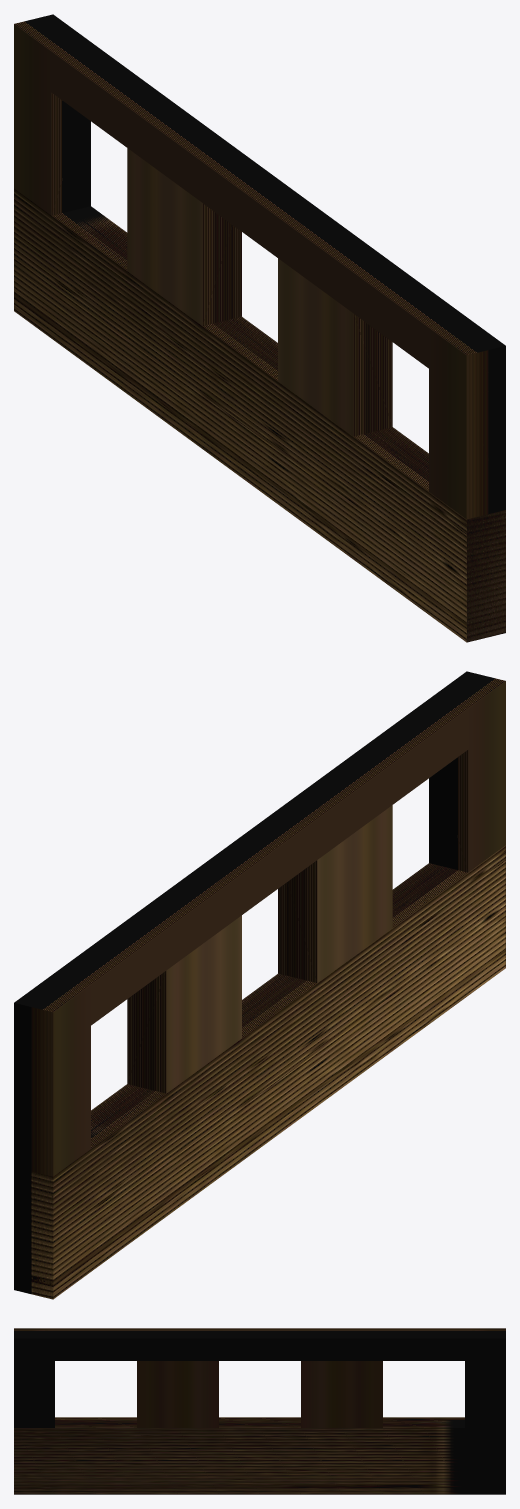
The model's file is windowed_wall.glb.
3 views of the same model, one above another, from view 1: azimuth 30°, elevation 25°; view 2: azimuth 150°, elevation 25°; view 3: azimuth 270°, elevation 25° (orthographic). The views are drawn at different scales.
Visible parts, largest first — view 1: wall; view 2: wall; view 3: wall.
Boxes of the visible parts, box(x1,y1,x2,y2) form: wall: box(14, 14, 505, 642); wall: box(14, 671, 505, 1299); wall: box(14, 1328, 505, 1494).
Size of the model in its own units: 1 by 7 by 20.
Materials: 1 (1 with a texture image).
